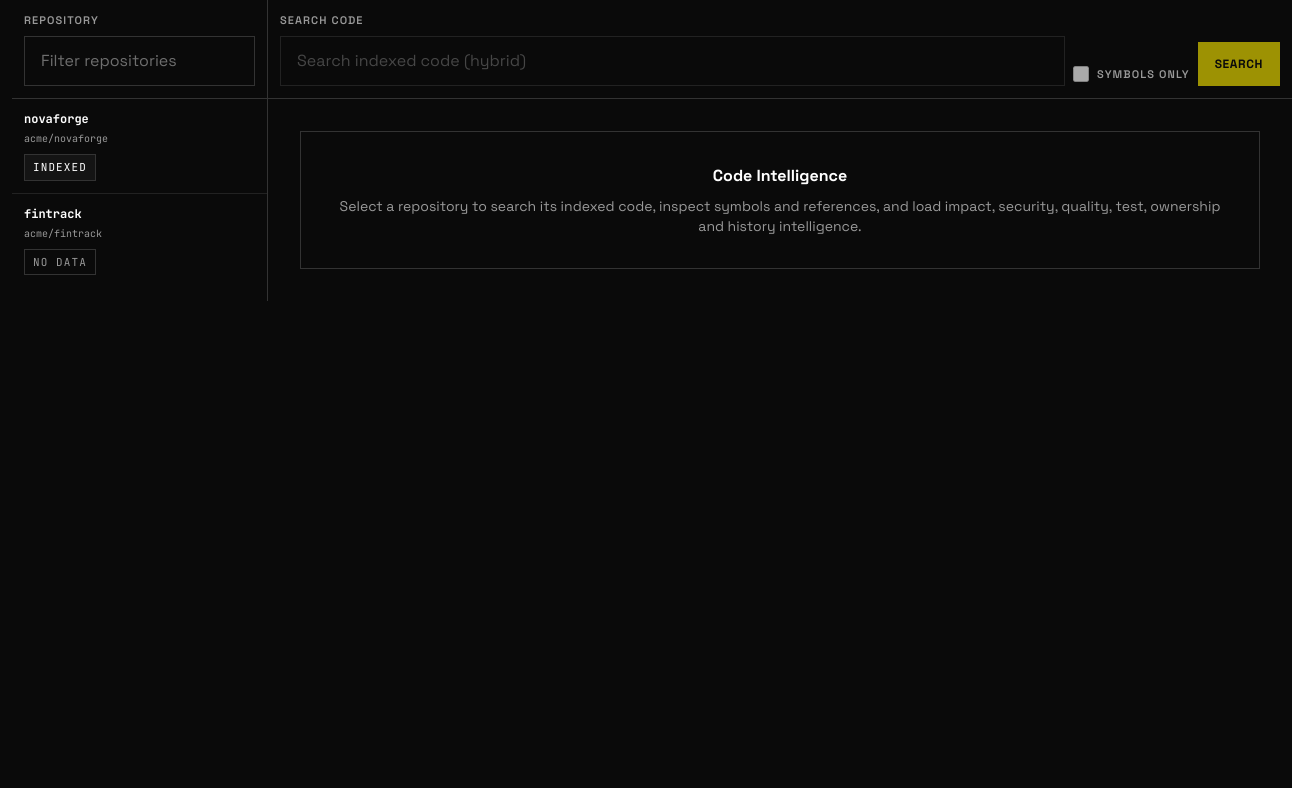
it: Code Workspace › enables search and loads intelligence after selecting a repository
Expected: the text "novaforge" is shown, left=24, top=111, right=89, bottom=127
Expected: the field labelled "Code search" is disabled, left=280, top=36, right=1065, bottom=86
What coordinates should you click on to do the following:
click the button "novaforge acme/novaforge Indexed"
I would click on:
 (140, 146)
Its box is left=12, top=99, right=267, bottom=192.
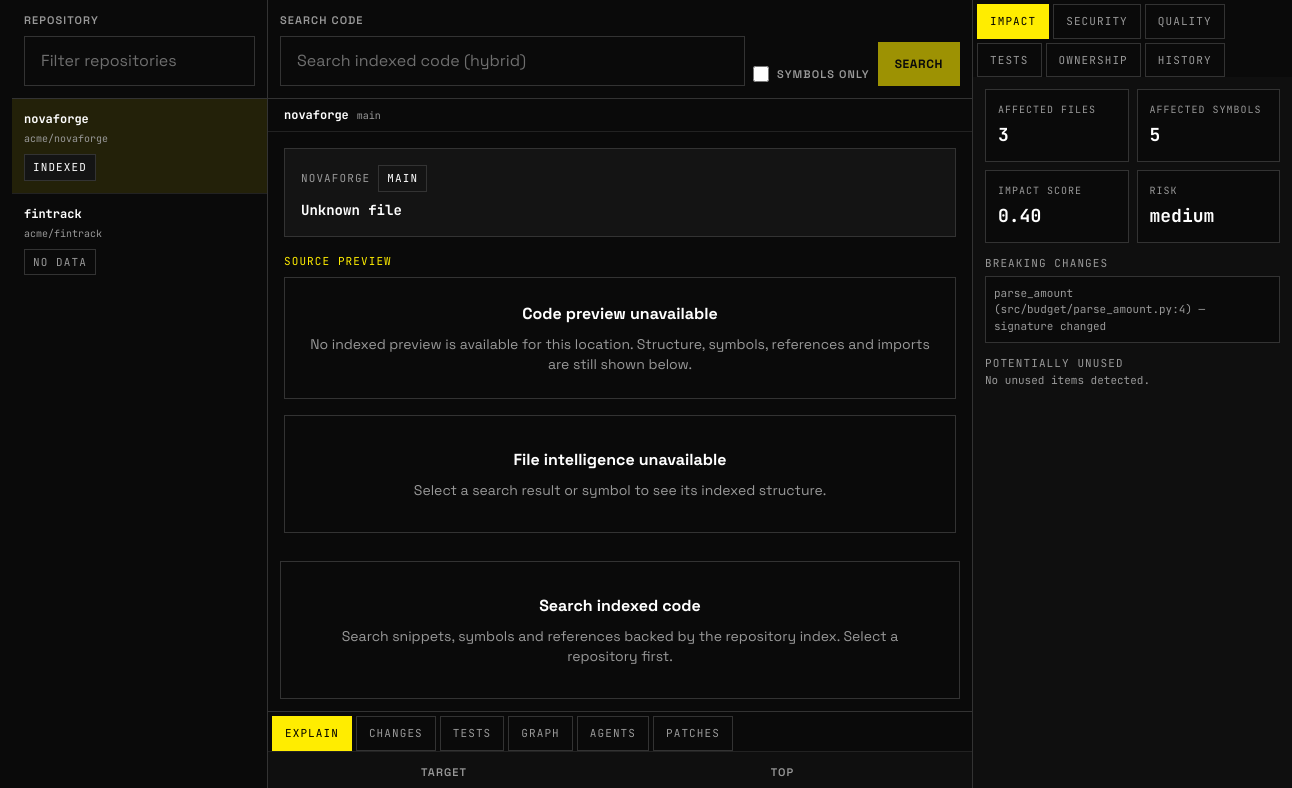
Expected: the field labelled "Code search" is enabled, left=280, top=36, right=745, bottom=86
Expected: the text "medium" is shown, left=1150, top=204, right=1214, bottom=227
